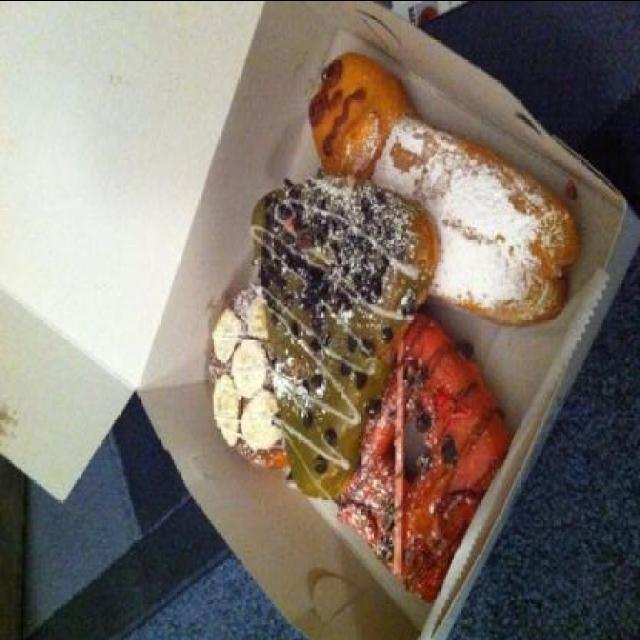Donuts: (194, 54, 604, 554)
